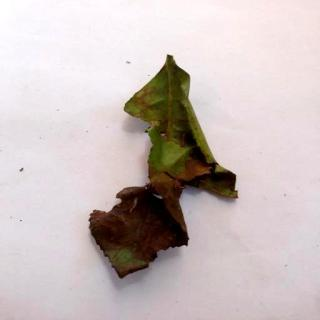Algal Leaf: (90, 55, 239, 280)
